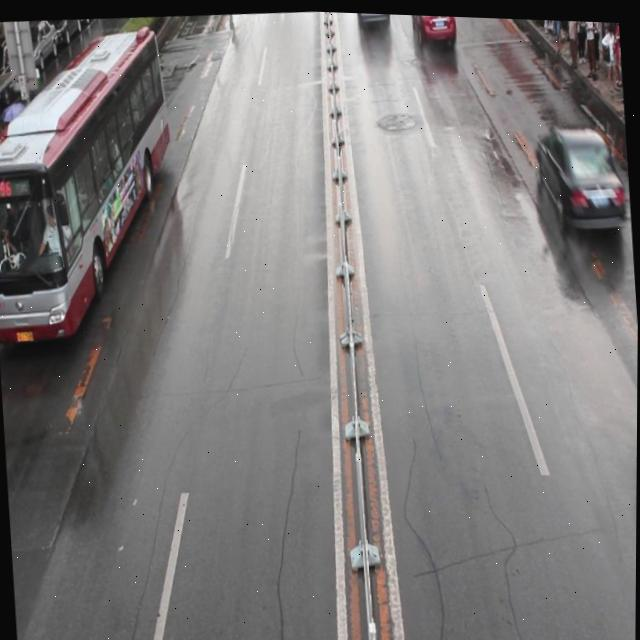car: (533, 118, 626, 225), (407, 12, 456, 42), (355, 10, 388, 21)
van: (0, 21, 184, 346)
